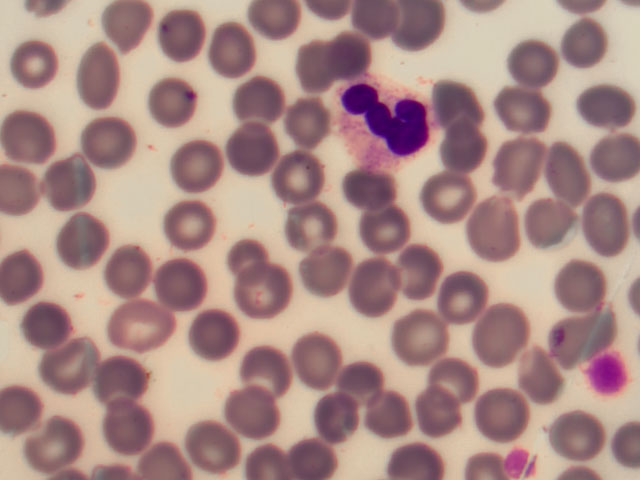Platelets: (589, 357, 632, 394), (503, 447, 538, 478)
RBC: (8, 38, 61, 92), (72, 51, 125, 105), (151, 10, 204, 64), (206, 22, 259, 76), (149, 72, 202, 126), (87, 114, 140, 168), (42, 158, 95, 212), (2, 108, 55, 162), (22, 294, 75, 348), (44, 337, 97, 391), (25, 415, 78, 469), (97, 400, 150, 454), (97, 351, 150, 405), (114, 299, 167, 353), (101, 244, 154, 298), (63, 217, 116, 271), (155, 255, 208, 309), (158, 200, 211, 254), (172, 137, 225, 191), (226, 123, 279, 177), (235, 79, 288, 133), (277, 96, 330, 150), (275, 152, 328, 206), (287, 202, 340, 256), (298, 248, 351, 302), (336, 265, 389, 319), (349, 200, 402, 254), (342, 164, 395, 218), (425, 169, 478, 223), (436, 114, 489, 168), (430, 74, 483, 128), (355, 4, 408, 58), (331, 35, 384, 89), (295, 36, 348, 90), (493, 83, 546, 137), (505, 30, 558, 84), (549, 14, 602, 68), (576, 76, 629, 130), (586, 129, 639, 183), (532, 139, 585, 193), (498, 140, 551, 194), (473, 204, 526, 258), (520, 197, 573, 251), (573, 202, 626, 256), (563, 253, 616, 307), (552, 305, 605, 359), (512, 351, 565, 405), (478, 312, 531, 366), (437, 270, 490, 324), (392, 310, 445, 364), (396, 248, 449, 302), (333, 353, 386, 407), (316, 398, 369, 452), (355, 382, 408, 436), (408, 390, 461, 444), (437, 350, 490, 404), (472, 378, 525, 432), (539, 410, 592, 464), (295, 426, 348, 480), (244, 426, 297, 480), (184, 420, 237, 474), (231, 387, 284, 441), (242, 347, 295, 401), (294, 331, 347, 385), (232, 263, 285, 317), (221, 227, 274, 281), (189, 309, 242, 363), (98, 1, 151, 54), (398, 1, 451, 54), (1, 252, 53, 306), (247, 1, 300, 41)
WBC: (331, 74, 433, 168)
